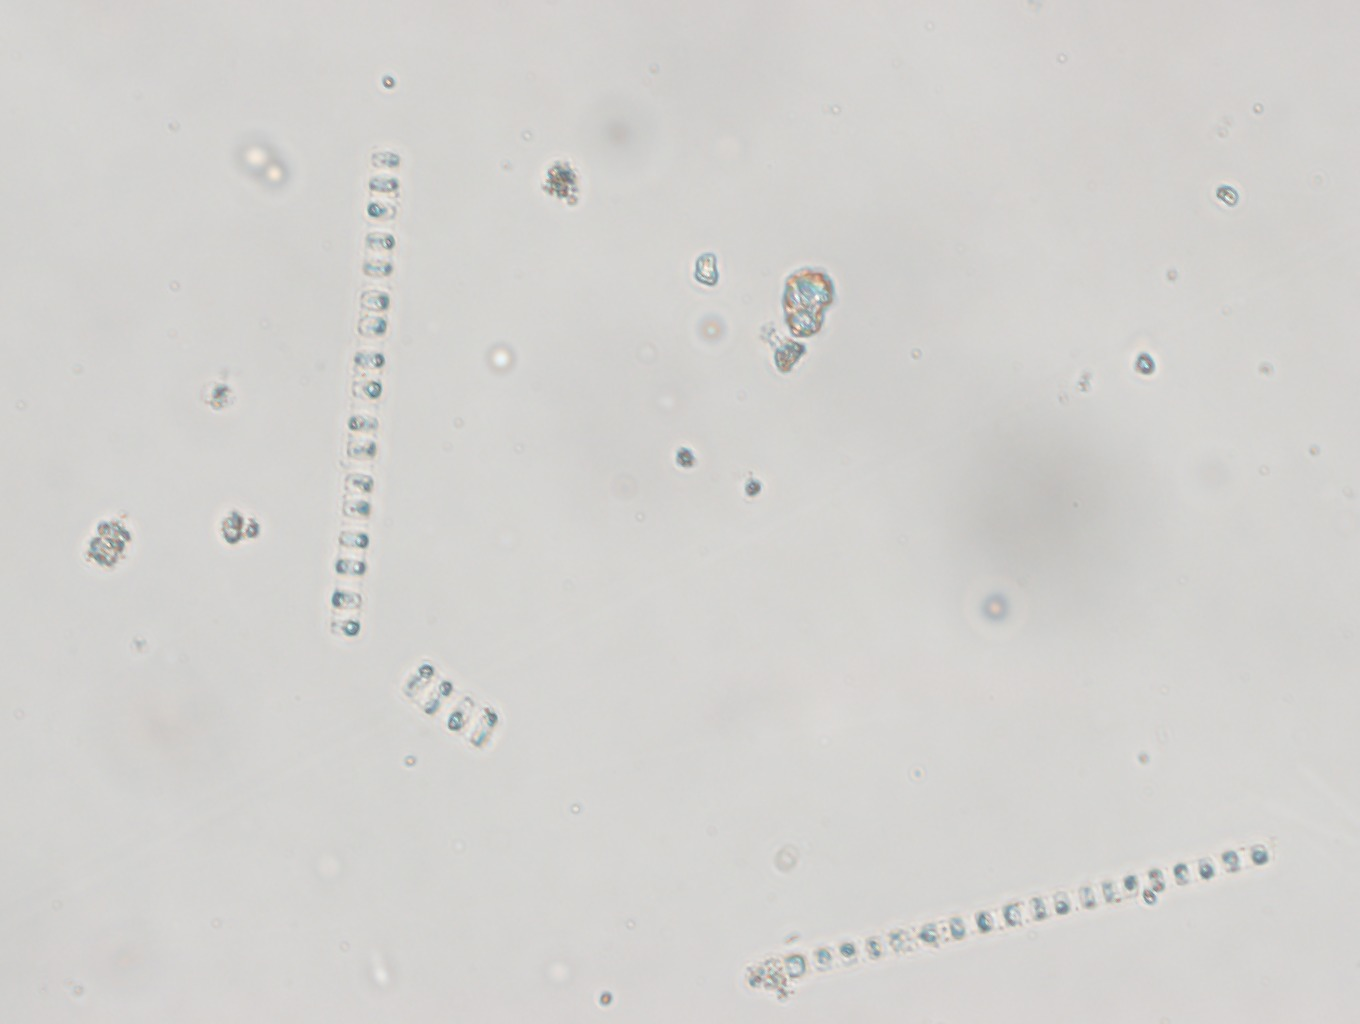skeletonema: (746, 827, 1271, 994), (327, 147, 399, 644), (398, 655, 525, 757)
